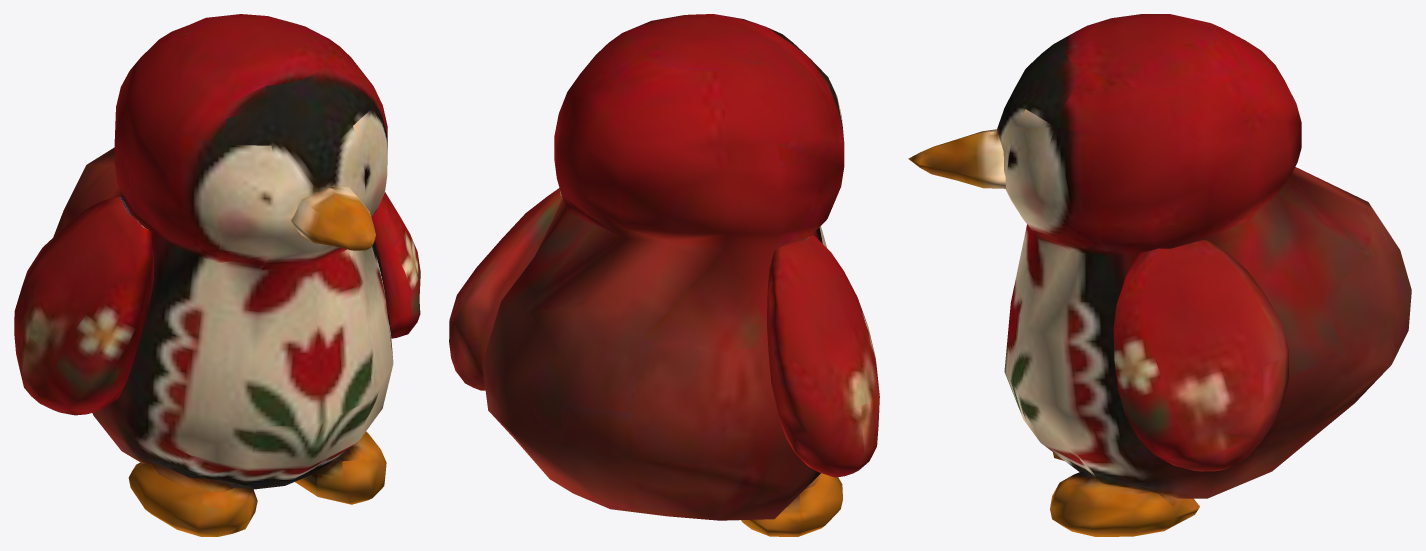
File: penguin-01-32-tulip-apron.gltf
The picture shows the model from 3 angles, left to right: view 1: azimuth 30°, elevation 25°; view 2: azimuth 150°, elevation 25°; view 3: azimuth 270°, elevation 25°; orthographic projection. The views are drawn at different scales.
Parts seen in each view (by area): view 1: penguin-01-32-tulip-apron; view 2: penguin-01-32-tulip-apron; view 3: penguin-01-32-tulip-apron.
Boxes of the visible parts, box(x1,y1,x2,y2) form: penguin-01-32-tulip-apron: box(14, 14, 420, 536); penguin-01-32-tulip-apron: box(449, 14, 879, 536); penguin-01-32-tulip-apron: box(908, 14, 1411, 536).
Bounding box in the file's own units: 0.2 × 0.2259 × 0.224.
1 material, 1 textured.
